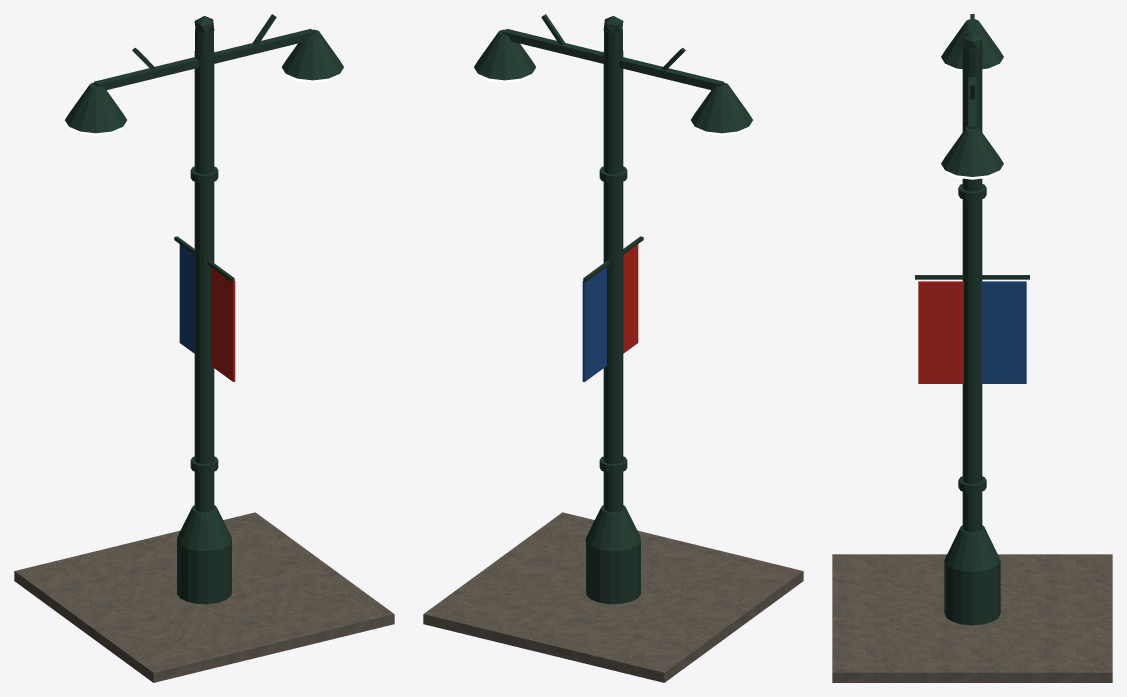
The model's file is OT_StreetLight.glb.
The picture shows the model from 3 angles, left to right: view 1: azimuth 30°, elevation 25°; view 2: azimuth 150°, elevation 25°; view 3: azimuth 270°, elevation 25°; orthographic projection.
Visible parts, largest first — view 1: OT_StreetLight_Sidewalk, OT_StreetLight_PoleGreen__1f3a2e, OT_StreetLight_BannerRed__c4261d, OT_StreetLight_BannerBlue__1f4e8c; view 2: OT_StreetLight_Sidewalk, OT_StreetLight_PoleGreen__1f3a2e, OT_StreetLight_BannerBlue__1f4e8c, OT_StreetLight_BannerRed__c4261d; view 3: OT_StreetLight_Sidewalk, OT_StreetLight_PoleGreen__1f3a2e, OT_StreetLight_BannerBlue__1f4e8c, OT_StreetLight_BannerRed__c4261d.
Boxes of the visible parts, left/top/right/bottom form: OT_StreetLight_Sidewalk: left=14, top=512, right=394, bottom=682; OT_StreetLight_PoleGreen__1f3a2e: left=65, top=14, right=343, bottom=604; OT_StreetLight_BannerRed__c4261d: left=211, top=267, right=235, bottom=381; OT_StreetLight_BannerBlue__1f4e8c: left=179, top=244, right=194, bottom=353; OT_StreetLight_Sidewalk: left=423, top=512, right=803, bottom=682; OT_StreetLight_PoleGreen__1f3a2e: left=474, top=14, right=752, bottom=604; OT_StreetLight_BannerBlue__1f4e8c: left=582, top=267, right=606, bottom=381; OT_StreetLight_BannerRed__c4261d: left=623, top=244, right=638, bottom=353; OT_StreetLight_Sidewalk: left=832, top=554, right=1112, bottom=682; OT_StreetLight_PoleGreen__1f3a2e: left=915, top=14, right=1029, bottom=625; OT_StreetLight_BannerBlue__1f4e8c: left=981, top=281, right=1026, bottom=383; OT_StreetLight_BannerRed__c4261d: left=918, top=281, right=963, bottom=383.
Size of the model in its own units: 4.5 by 9.31 by 4.
Materials: 5 (1 with a texture image).
